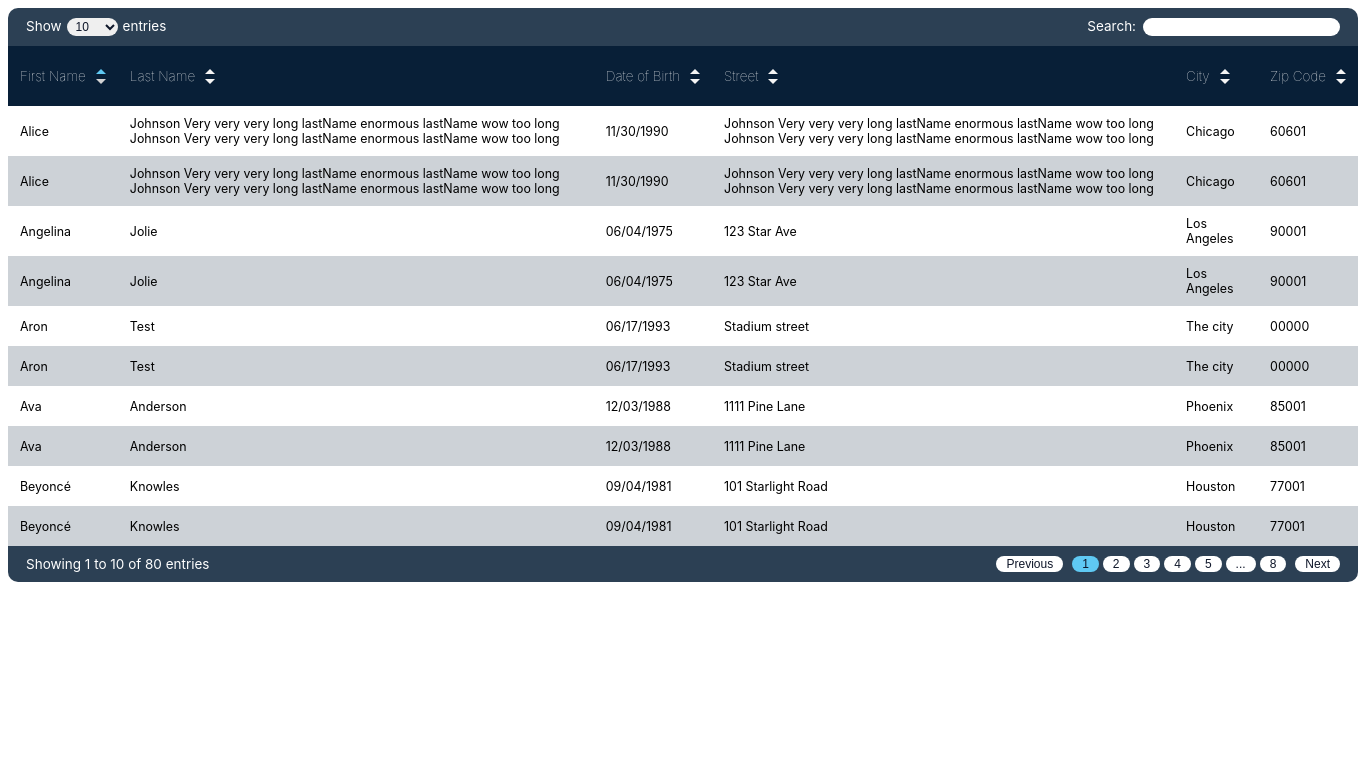
TablePagination tests suite › TablePagination buttons display is accurate when modifying entries selection and page number with a larger data sample (Page 5, displaying 5 entries).
Show 5 entries
Select "5" in the dropdown labelled "Show": (92, 27) 66,18 -> 118,36
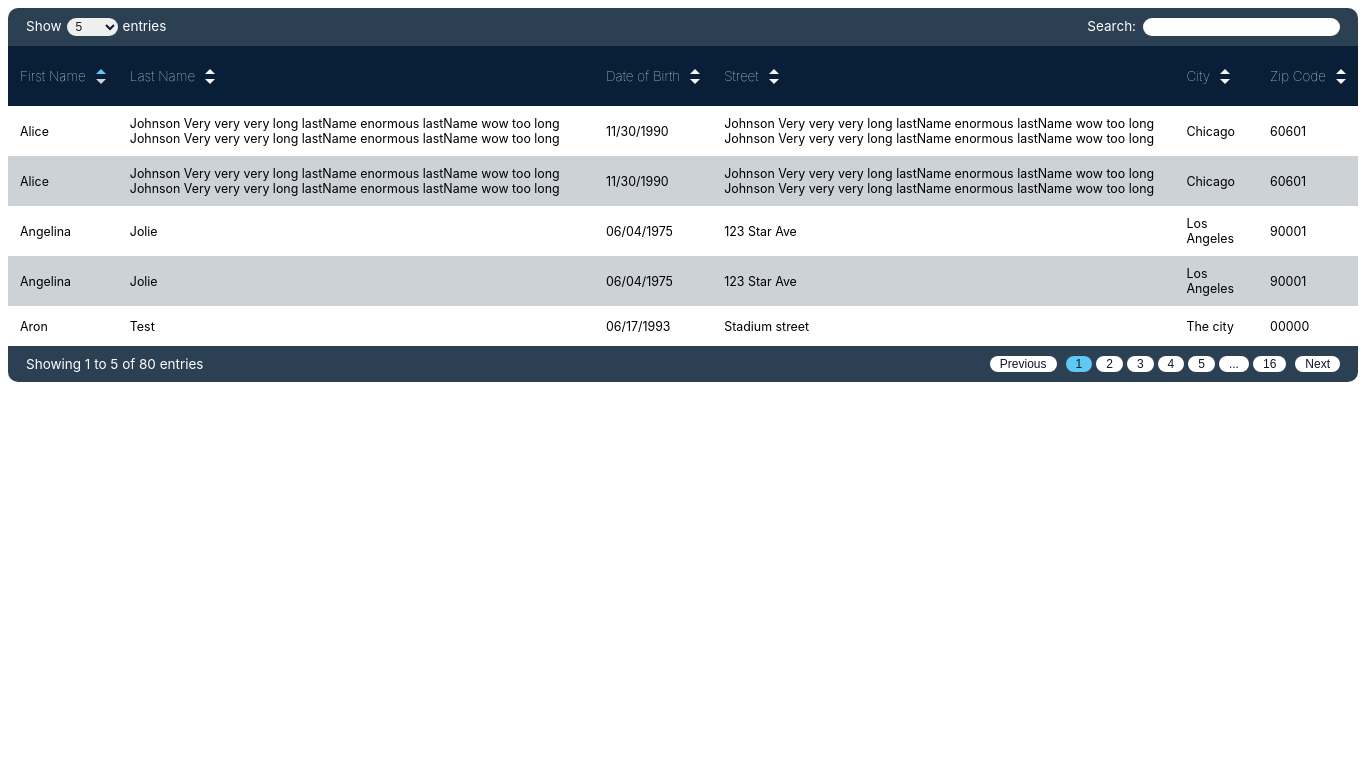
Go to page 5
Click the button "5": (1202, 364) 1188,356 -> 1215,372
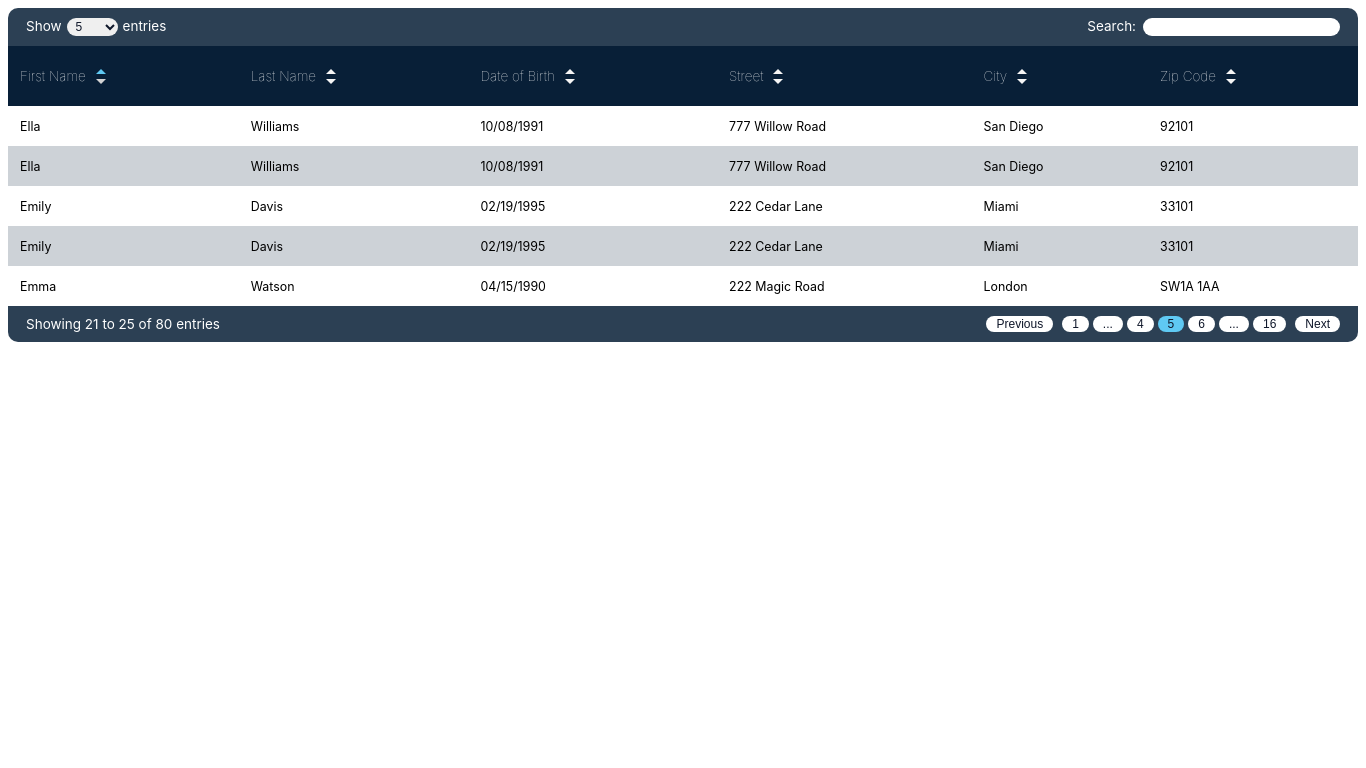
Expected: the 1st button "..." is shown, 1093,316 -> 1123,332
Expected: the button "4" is shown, 1127,316 -> 1154,332
Expected: the button "5" is shown, 1158,316 -> 1184,332
